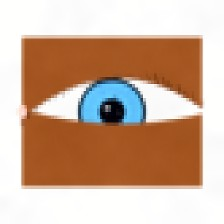pinguecula_lesion: (139, 93, 178, 124)
